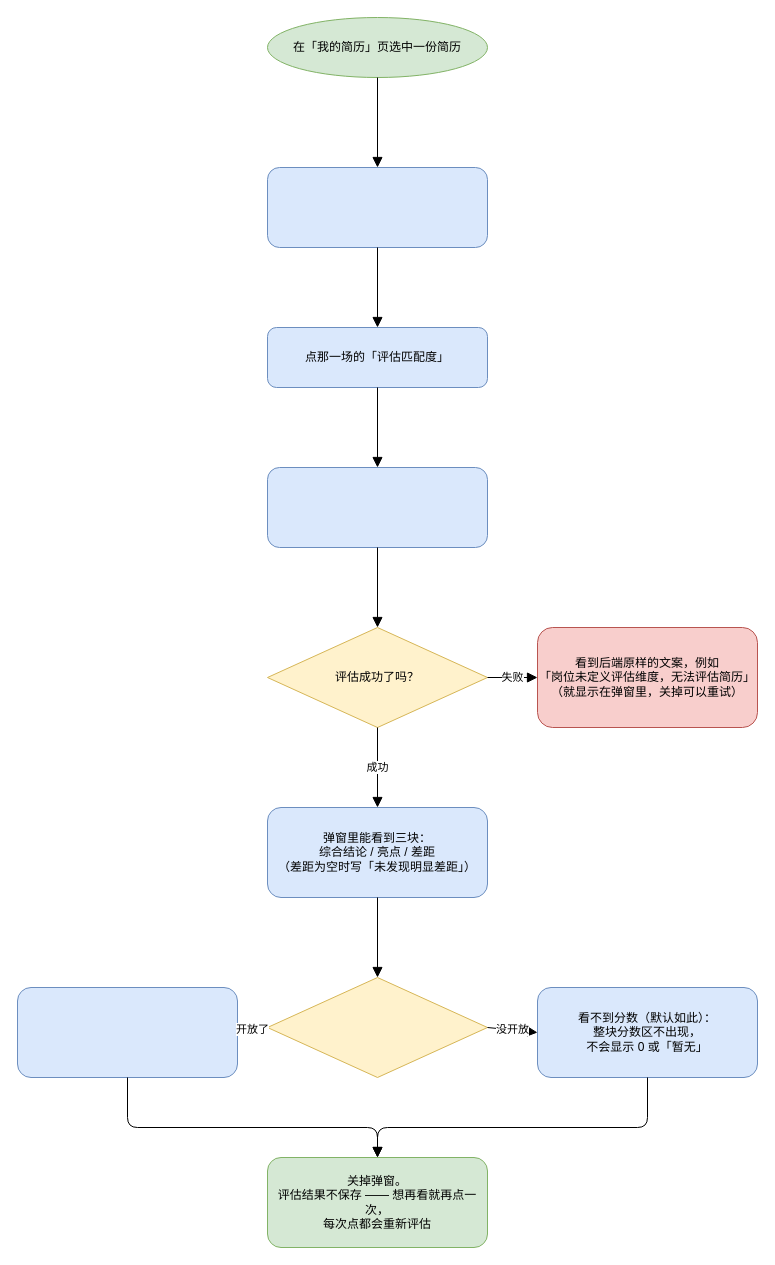
Image size: 775x1265. Some labels were removed from this diagram. The shapes that lost their labels are listed below. From the top down, each one's centre as x and y in pixels, then its label:
[377,207]: 右栏「用于面试」那一段， 每一场旁边都有一颗「评估匹配度」
[377,507]: 弹窗先显示「AI 正在评估简历与 岗位的匹配度…」，按钮变「评估中…」
[127,1032]: 看得到匹配度分， 旁边跟一句档位说法， 例如「重合度较好」
[377,1027]: 这次开放分数了吗？
